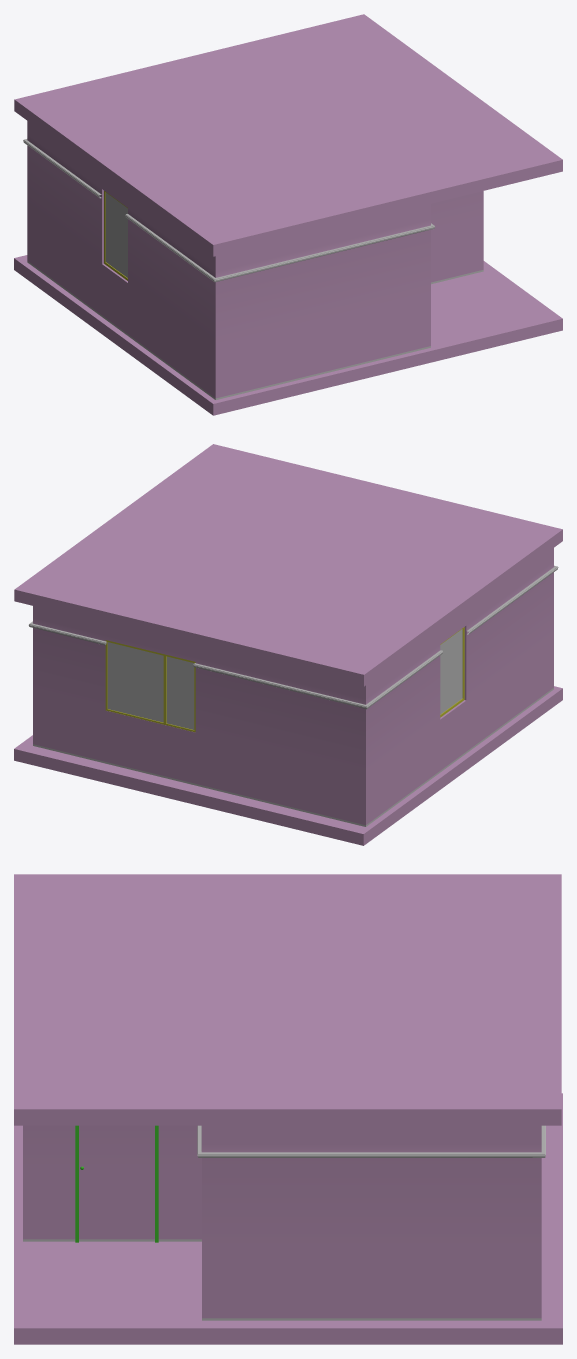
File: FloorPlan323.fbx
3 views of the same model, one above another, from view 1: azimuth 30°, elevation 25°; view 2: azimuth 150°, elevation 25°; view 3: azimuth 270°, elevation 25° (orthographic). The views are drawn at different scales.
Visible parts, largest first — view 1: Ceiling.018, StandardWallSize.019, Floor.018, Window (2).001; view 2: Ceiling.018, StandardWallSize.019, Floor.018, Window.010, Window (2).001; view 3: Ceiling.018, StandardWallSize.019, Floor.018, StandardDoorFrame1.017.
Part boxes in pixels (x1=…): Ceiling.018: x1=14, y1=14, x2=562, y2=256; StandardWallSize.019: x1=23, y1=121, x2=483, y2=399; Floor.018: x1=14, y1=255, x2=562, y2=415; Window (2).001: x1=104, y1=191, x2=127, y2=280; Ceiling.018: x1=14, y1=444, x2=562, y2=686; StandardWallSize.019: x1=28, y1=548, x2=558, y2=826; Floor.018: x1=14, y1=686, x2=562, y2=845; Window.010: x1=105, y1=640, x2=195, y2=732; Window (2).001: x1=440, y1=627, x2=464, y2=717; Ceiling.018: x1=14, y1=874, x2=561, y2=1125; StandardWallSize.019: x1=23, y1=1125, x2=545, y2=1320; Floor.018: x1=14, y1=1093, x2=562, y2=1344; StandardDoorFrame1.017: x1=75, y1=1125, x2=158, y2=1242.
Size of the model in its own units: 622 by 290 by 614.
